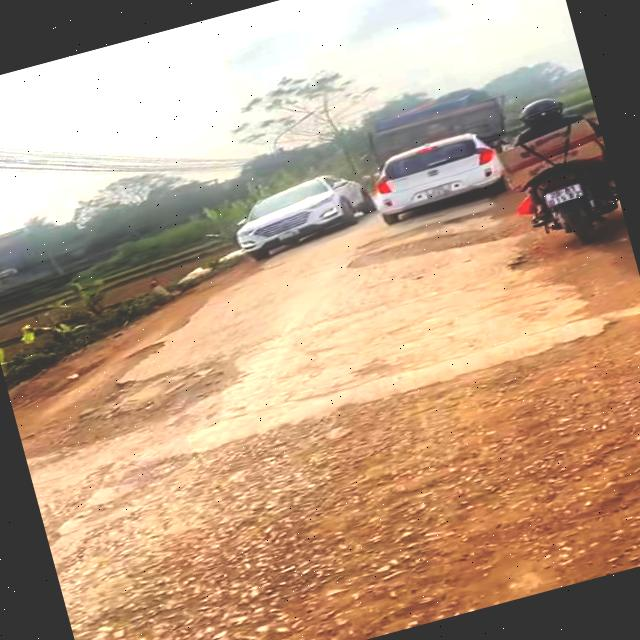pothole: (3, 312, 262, 466), (338, 198, 528, 280), (501, 242, 545, 278)
